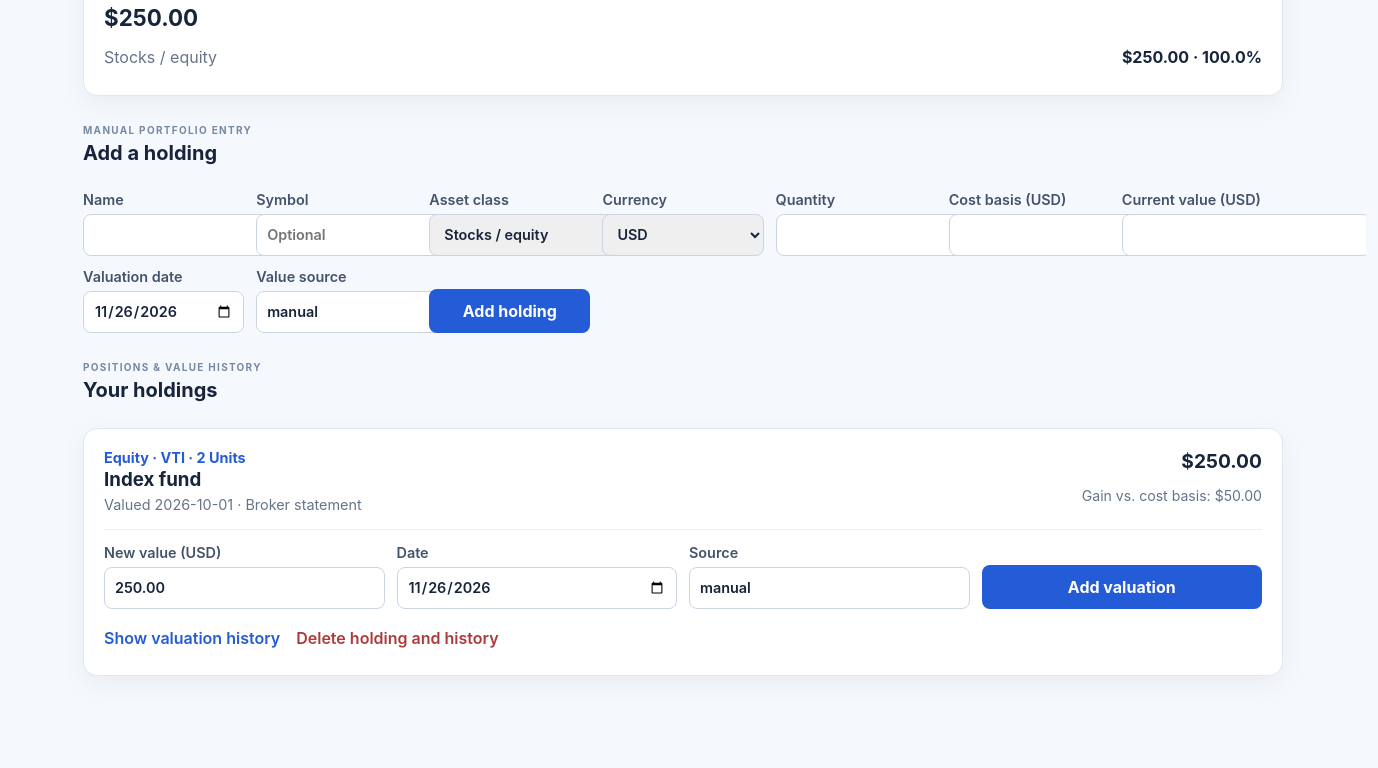
shows portfolio allocation and valuation history
(page scrolled)
Expected: the heading "Index fund" is shown, [104,468,201,491]
Expected: the text "Gain vs. cost basis: $50.00" is shown, [1082,487,1262,513]
Click the button "Show valuation history": (192, 638) [104,621,280,655]
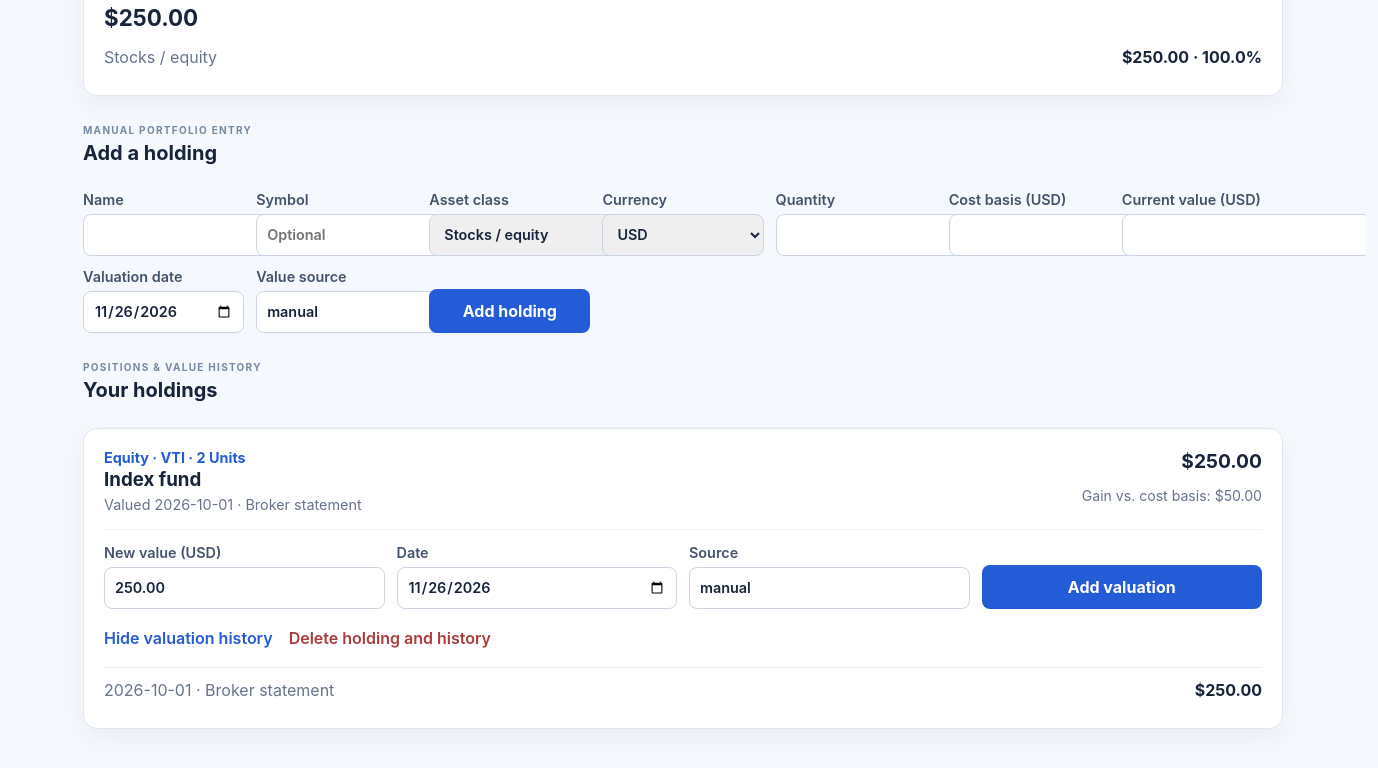
Result: the text "2026-10-01 · Broker statement" is shown at [104,680,334,700]
